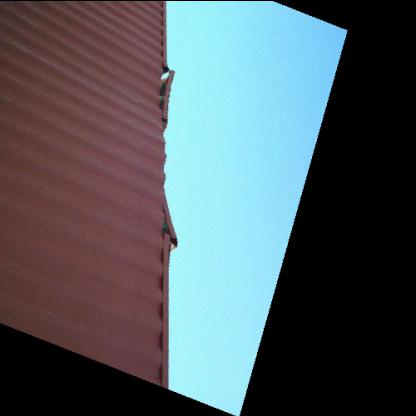Damage: (144, 59, 196, 258)
